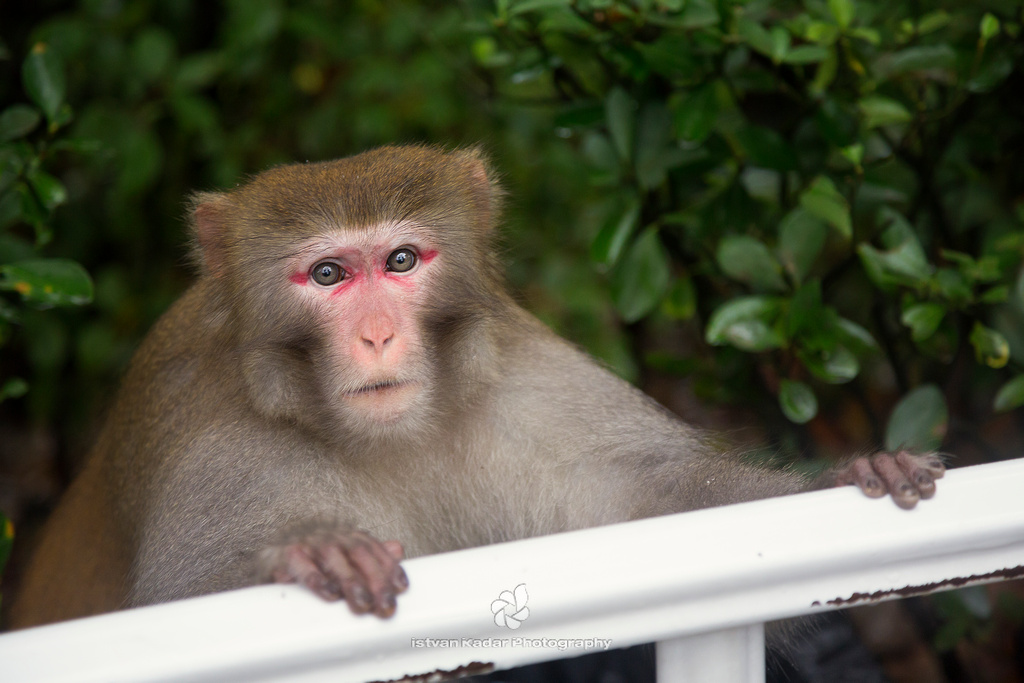monkey: (34, 130, 982, 616)
